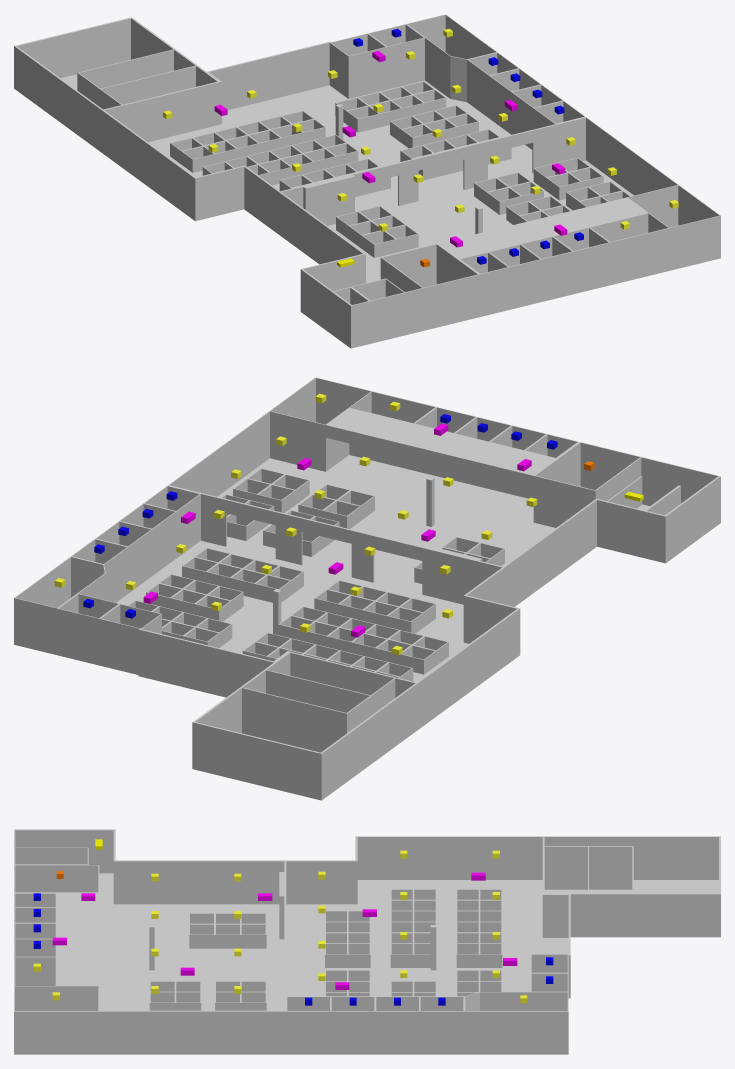
The model's file is Cloud floor plan.fbx.
3 views of the same model, one above another, from view 1: azimuth 30°, elevation 25°; view 2: azimuth 150°, elevation 25°; view 3: azimuth 270°, elevation 25° (orthographic). The views are drawn at different scales.
Parts seen in each view (by area): view 1: Model, CUBICEL_84X84_12, cubicle_84x74_24, CUBICEL_84X84_9, cubicle_84x74_15, CUBICEL_84X84_10, cubicle_84x74_19, CUBICEL_84X84_7; view 2: Model, cubicle_84x74_39, CUBICEL_84X84_11, CUBICEL_84X84_17, cubicle_84x74_4, cubicle_84x74_52, cubicle_84x74_22, CUBICEL_84X84_13; view 3: Model, CUBICEL_84X84_1, CUBICEL_84X84_7, CUBICEL_84X84_15, cubicle_84x74_12, cubicle_84x74_18, cubicle_84x74_26, cubicle_84x74_37, cubicle_84x74_10, CUBICEL_84X84_6, CUBICEL_84X84_5, CUBICEL_84X84_4 (+2 smaller).
Boxes of the visible parts, <box> form: Model: <box>14,14,720,348</box>; CUBICEL_84X84_12: <box>361,230,396,257</box>; cubicle_84x74_24: <box>346,105,379,132</box>; CUBICEL_84X84_9: <box>486,187,521,214</box>; cubicle_84x74_15: <box>181,146,214,172</box>; CUBICEL_84X84_10: <box>546,172,581,200</box>; cubicle_84x74_19: <box>401,124,434,148</box>; CUBICEL_84X84_7: <box>385,224,418,252</box>; Model: <box>14,377,720,800</box>; cubicle_84x74_39: <box>400,645,436,674</box>; CUBICEL_84X84_11: <box>257,484,295,512</box>; CUBICEL_84X84_17: <box>322,500,360,528</box>; cubicle_84x74_4: <box>254,575,291,602</box>; cubicle_84x74_52: <box>387,607,423,633</box>; cubicle_84x74_22: <box>194,595,231,621</box>; CUBICEL_84X84_13: <box>227,514,260,540</box>; Model: <box>14,829,720,1054</box>; CUBICEL_84X84_1: <box>240,924,266,948</box>; CUBICEL_84X84_7: <box>189,924,214,948</box>; CUBICEL_84X84_15: <box>215,924,240,948</box>; cubicle_84x74_12: <box>479,943,502,967</box>; cubicle_84x74_18: <box>390,943,413,967</box>; cubicle_84x74_26: <box>347,943,370,967</box>; cubicle_84x74_37: <box>456,943,479,967</box>; cubicle_84x74_10: <box>325,943,347,967</box>; CUBICEL_84X84_6: <box>175,992,201,1010</box>; CUBICEL_84X84_5: <box>240,992,266,1010</box>; CUBICEL_84X84_4: <box>149,992,175,1010</box>.
Size of the model in its own units: 1453 by 178 by 2385.
